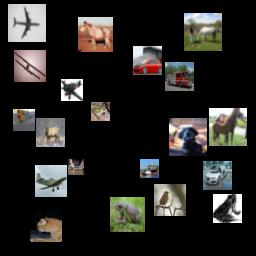airplane: (8, 4, 46, 42), (14, 50, 46, 82), (35, 165, 67, 197), (61, 79, 83, 101)
automobile: (133, 46, 162, 75), (203, 161, 232, 190)
bird: (154, 184, 186, 216), (13, 109, 35, 131)
cat: (30, 210, 62, 242)
deer: (36, 118, 65, 147)
dog: (169, 118, 207, 156)
frog: (110, 197, 145, 232), (213, 194, 242, 223), (91, 102, 110, 121)
ship: (140, 159, 159, 178)
truck: (165, 62, 194, 91)
